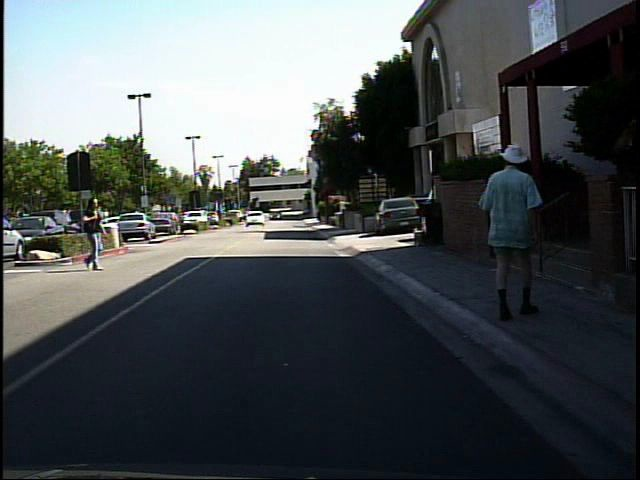person: (470, 130, 560, 322), (77, 193, 114, 275)
